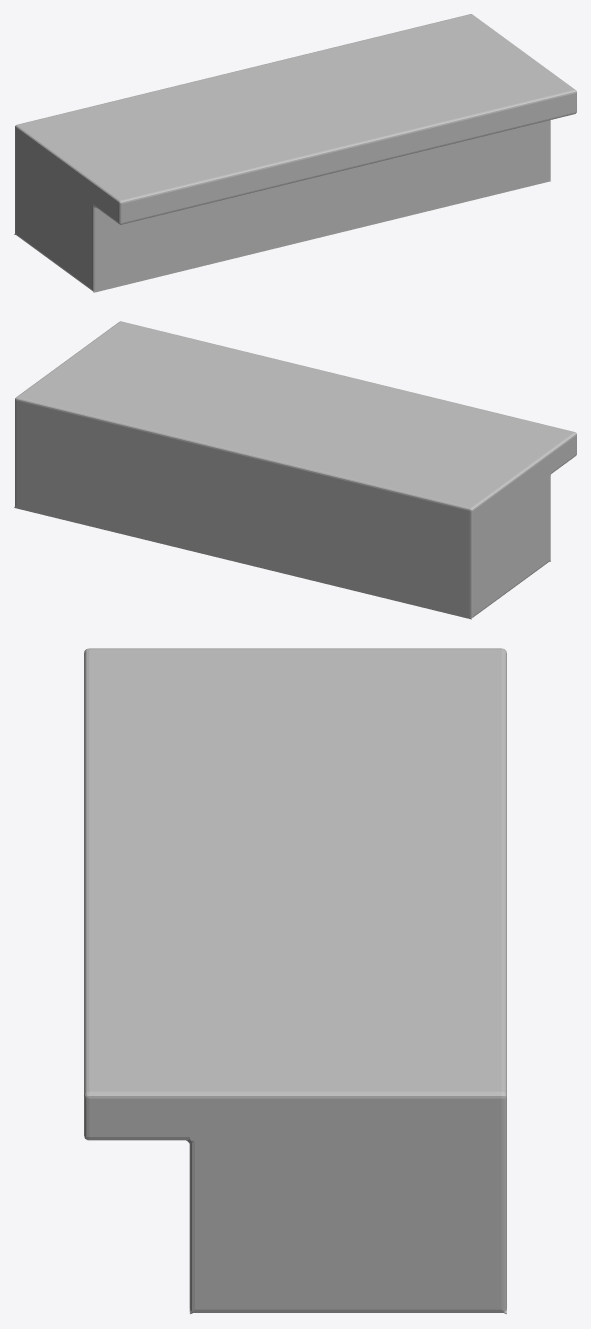
Rendered from counter.obj.
The picture shows the model from 3 angles, top to bottom: view 1: azimuth 30°, elevation 25°; view 2: azimuth 150°, elevation 25°; view 3: azimuth 270°, elevation 25°; orthographic projection. The views are drawn at different scales.
Visible parts, largest first — view 1: Box001; view 2: Box001; view 3: Box001.
Part boxes in pixels (x1,y1,x2,y2): Box001: (14,14,576,292); Box001: (14,321,576,619); Box001: (84,648,506,1314).
Size of the model in its own units: 50 by 11.5 by 20.
